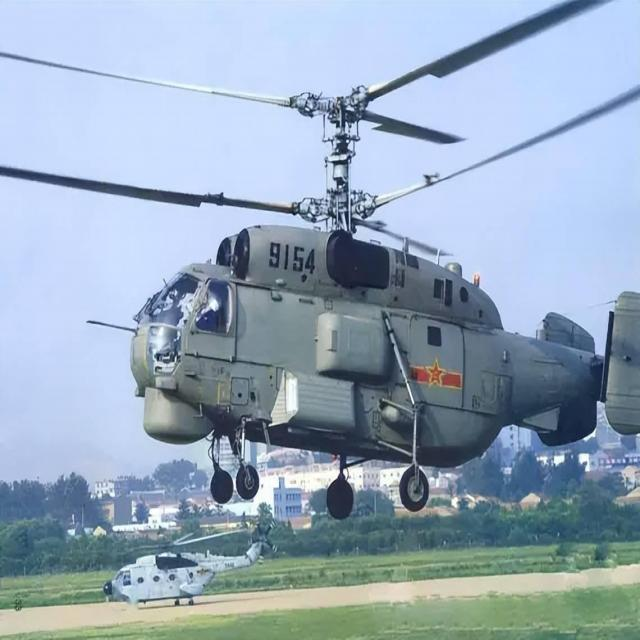MIL_HELO: (5, 20, 640, 527)
